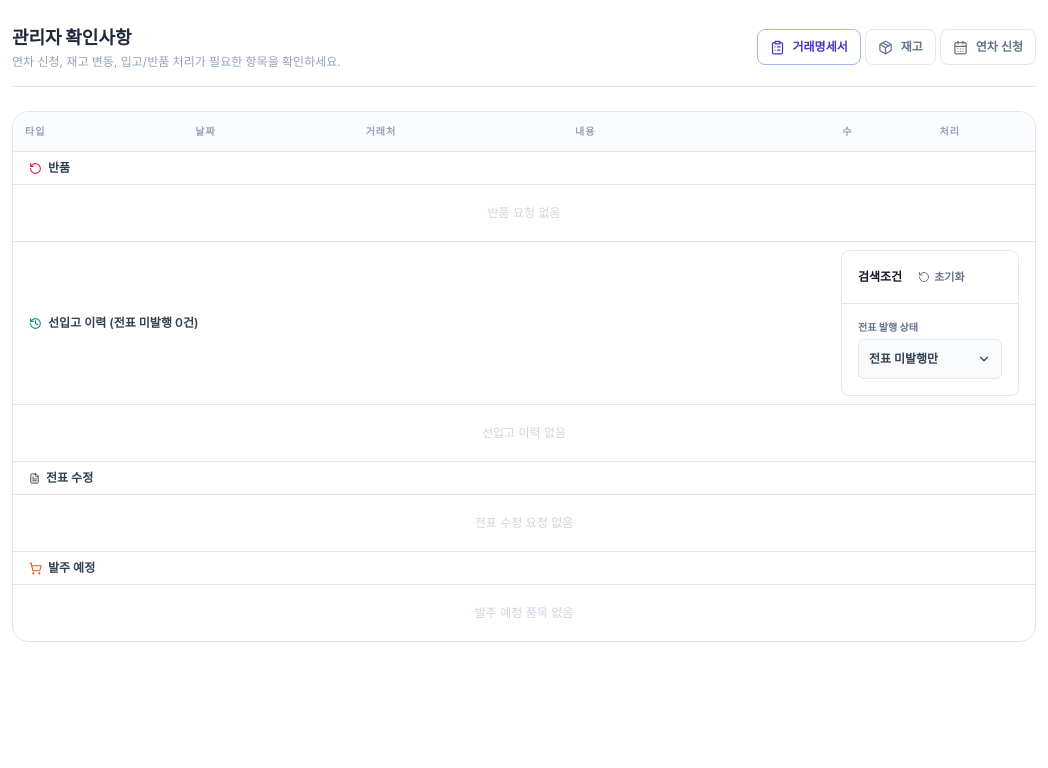
Scenario: 선입고 이력의 상태 드롭다운과 초기화는 미발행 기본조건만 복원한다
This screenshot has width=1048, height=768.
Click the button with aria-label "선입고 전표 상태" at (930, 359), box [858,339,1002,379]
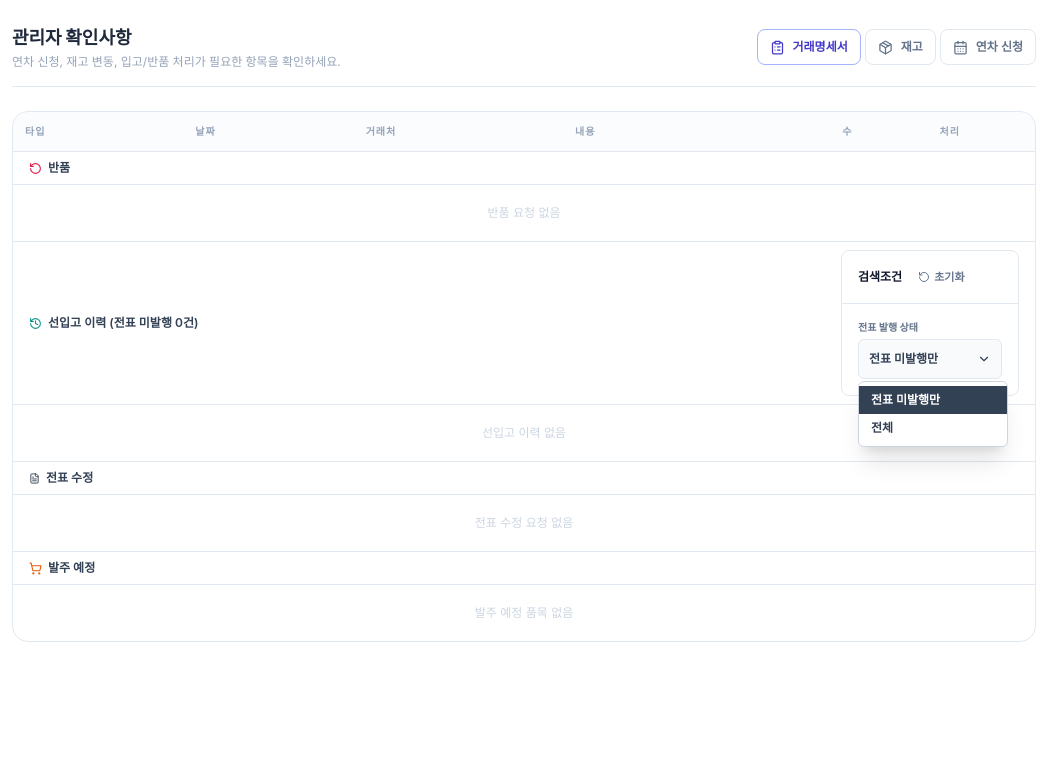
Click the option "전체" at (933, 428), box [859,414,1007,442]
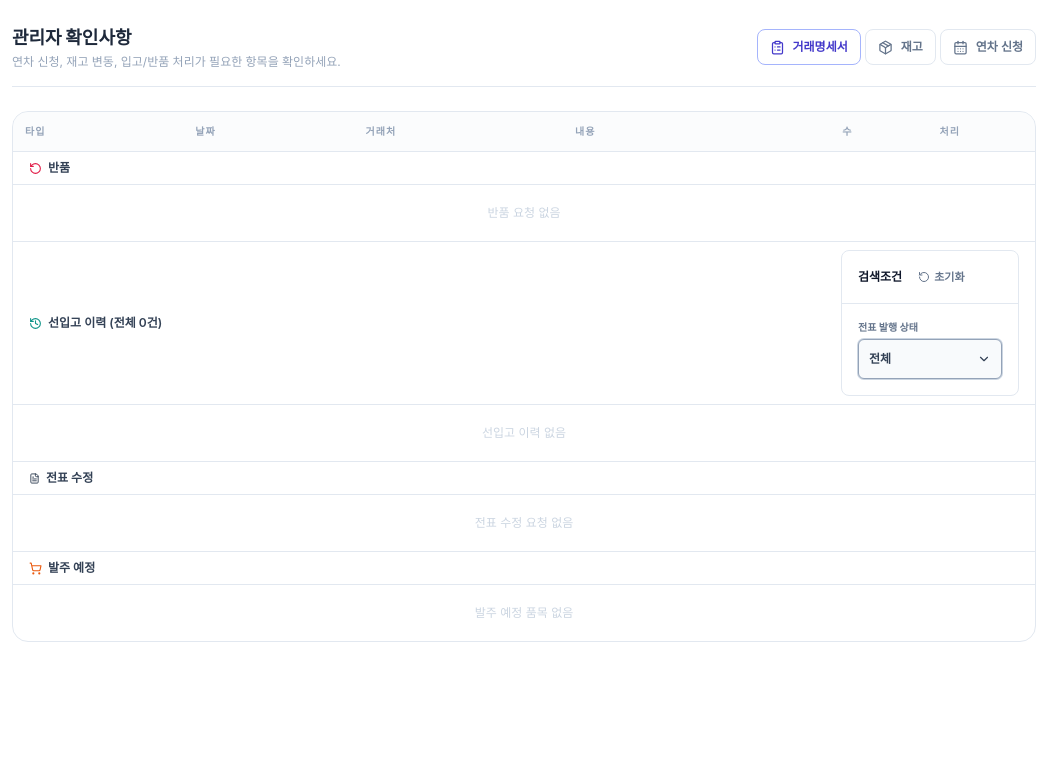
Check: the button with aria-label "선입고 전표 상태" reads "전체", box [858,339,1002,379]
Click the button "초기화" at (941, 277), box [910,261,973,293]
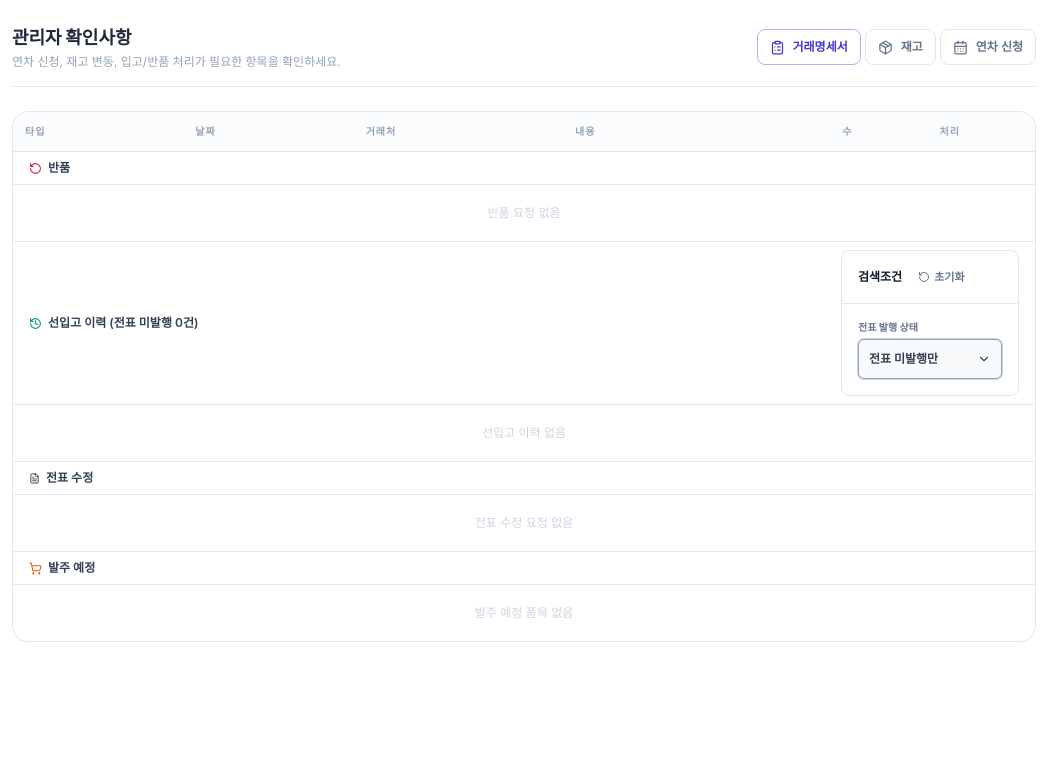
Check: the button with aria-label "선입고 전표 상태" reads "전표 미발행만", box [858,339,1002,379]
